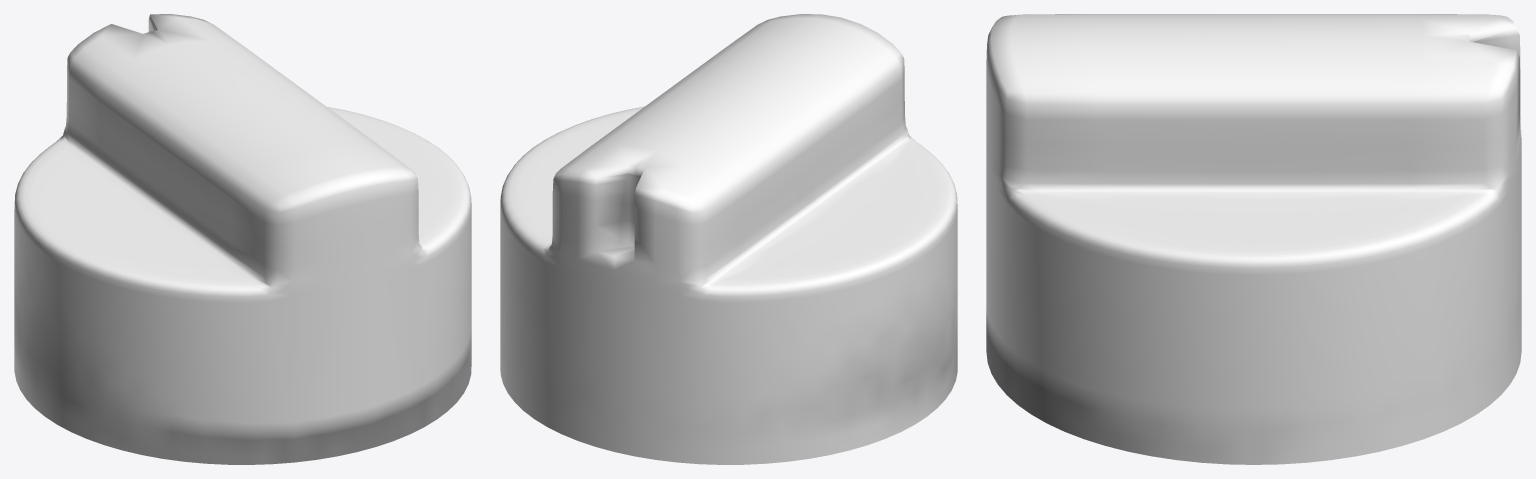
The model's file is Stove_Control.glb.
3 renders of one model, left to right at view 1: azimuth 30°, elevation 25°; view 2: azimuth 150°, elevation 25°; view 3: azimuth 270°, elevation 25°, orthographic. The views are drawn at different scales.
Visible parts, largest first — view 1: Cube; view 2: Cube; view 3: Cube.
Boxes of the visible parts, <box> form: Cube: <box>14,14,471,464</box>; Cube: <box>500,14,957,464</box>; Cube: <box>986,14,1521,464</box>.
Bounding box in the file's own units: 0.088 × 0.0574 × 0.088.
1 material, 1 textured.
